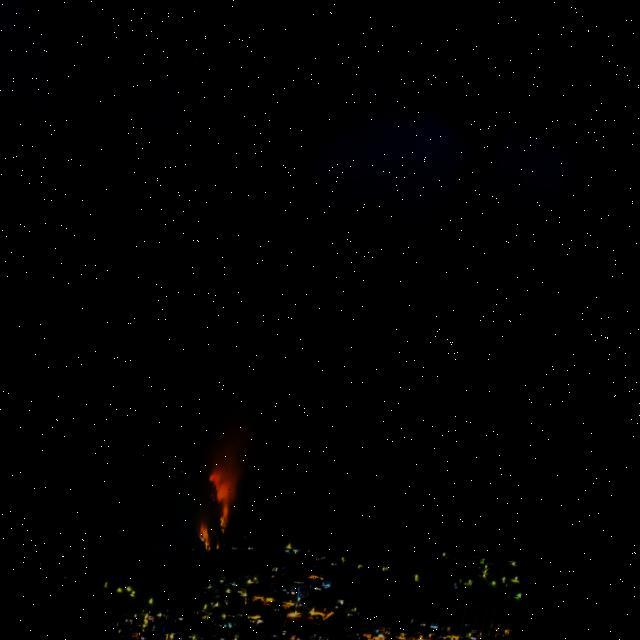Fire: (222, 462, 260, 524), (218, 517, 242, 546)
